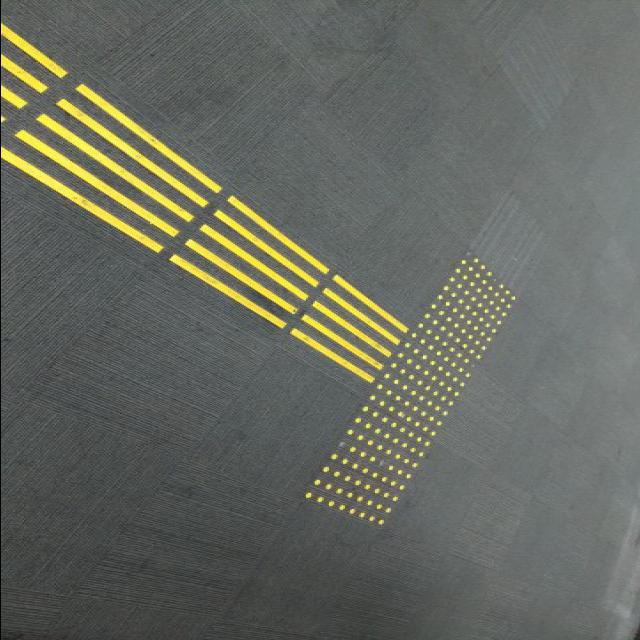tactile-guide-path: (2, 23, 406, 383), (304, 253, 518, 526)
